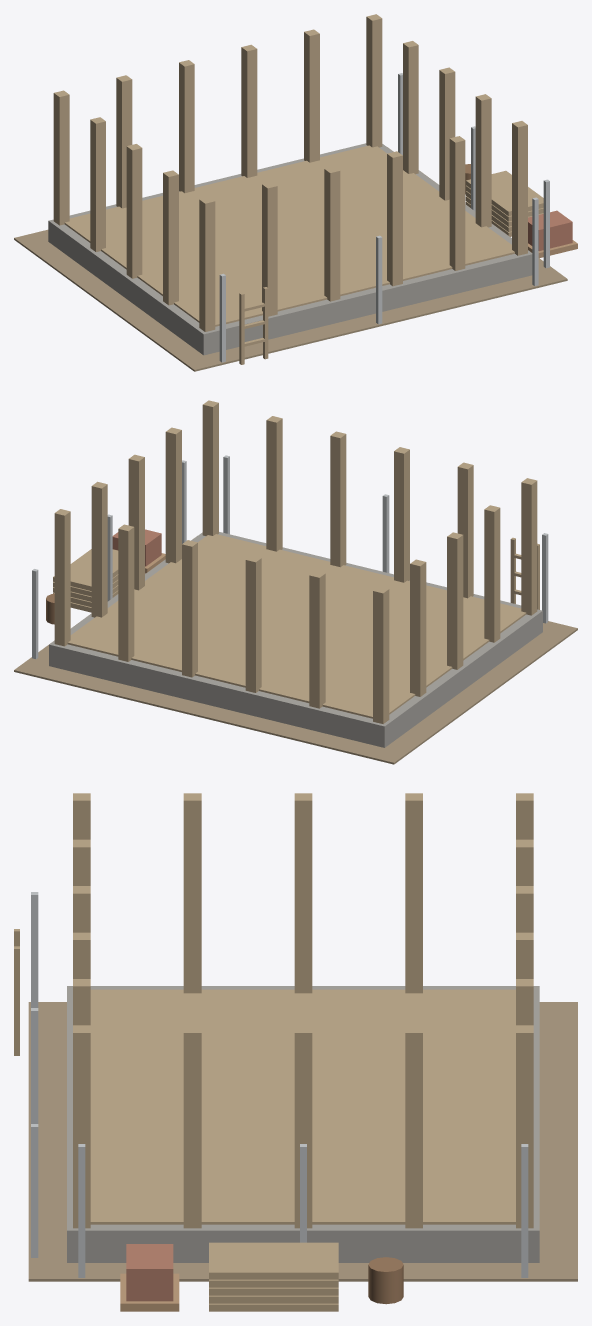
The model's file is garage_site_3.glb.
The picture shows the model from 3 angles, top to bottom: view 1: azimuth 30°, elevation 25°; view 2: azimuth 150°, elevation 25°; view 3: azimuth 270°, elevation 25°; orthographic projection. The views are drawn at different scales.
Visible parts, largest first — view 1: body; view 2: body; view 3: body.
Boxes of the visible parts, <box> form: body: <box>14,14,577,371</box>; body: <box>14,400,577,764</box>; body: <box>14,793,577,1311</box>.
Size of the model in its own units: 2.46 by 0.86 by 1.91.
